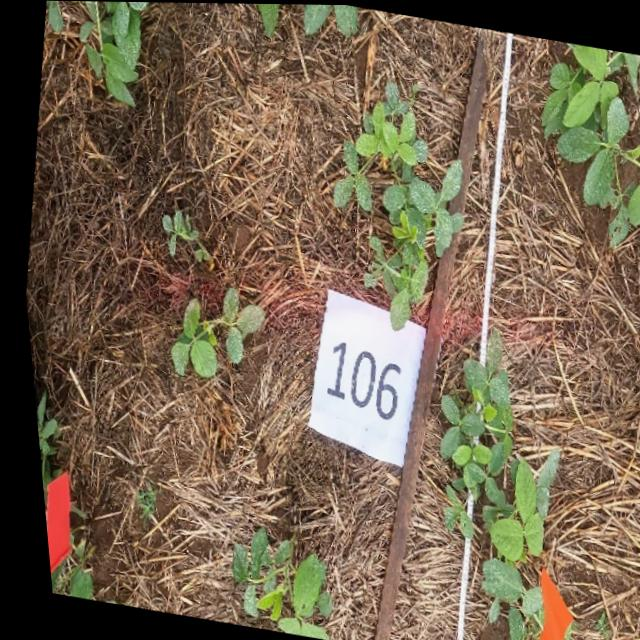grassy_weed: (125, 482, 148, 527)
soy_plant: (432, 331, 551, 640), (330, 81, 460, 328), (540, 42, 640, 245), (165, 288, 259, 378), (76, 1, 149, 105), (158, 210, 206, 261), (29, 394, 52, 499), (40, 544, 82, 600), (303, 4, 358, 36), (258, 3, 279, 36)
